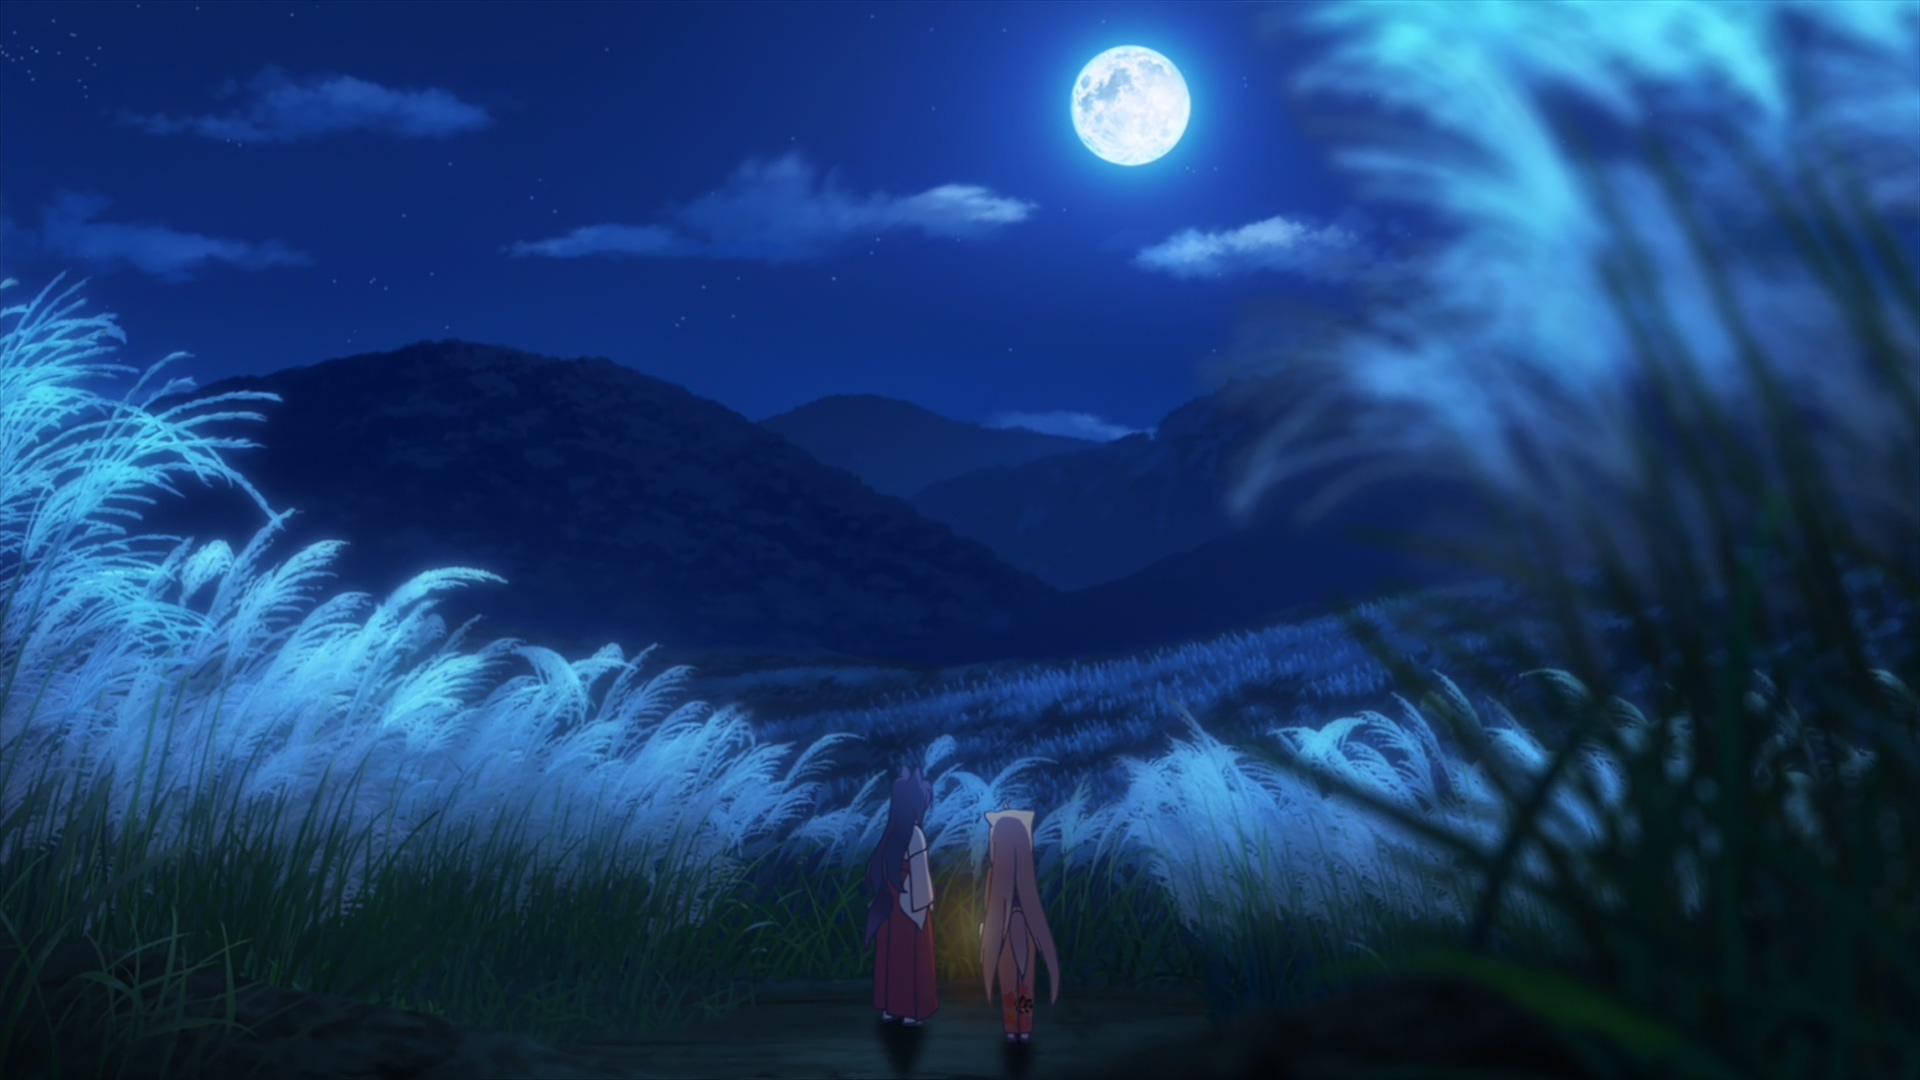柚: (978, 808, 1060, 1043)
皋: (864, 767, 939, 1026)
